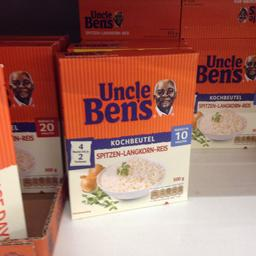rice: (54, 48, 199, 219), (0, 39, 61, 193), (185, 38, 255, 148)
